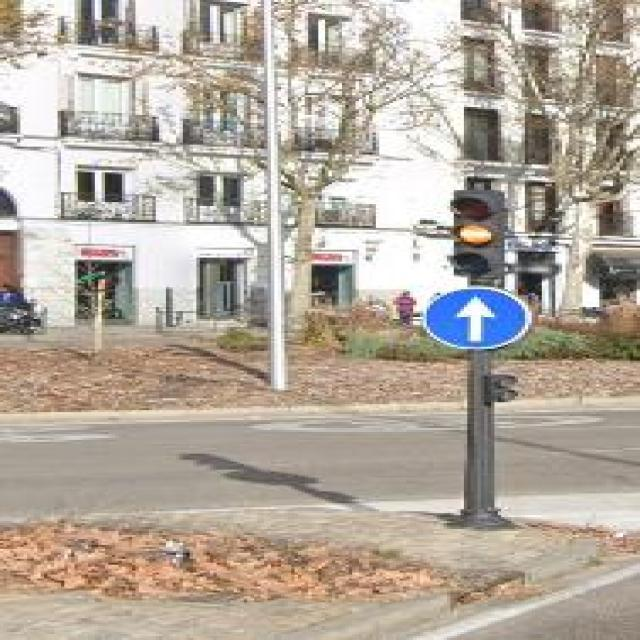yellow_light: (451, 188, 507, 286)
